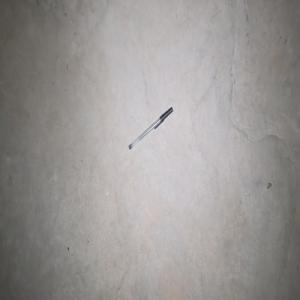Pen: (128, 106, 173, 149)
